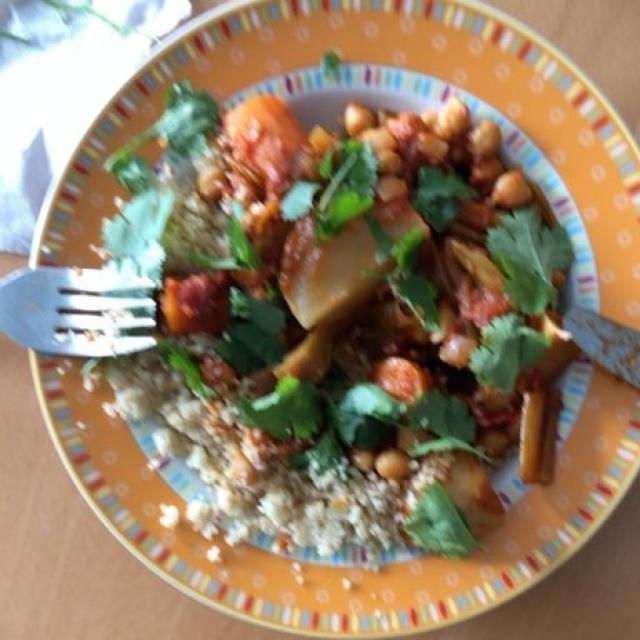chickpeas: (305, 96, 530, 485)
coriander: (106, 101, 567, 462)
couscous: (108, 355, 436, 560)
mixed-vegetables: (164, 96, 569, 544)
